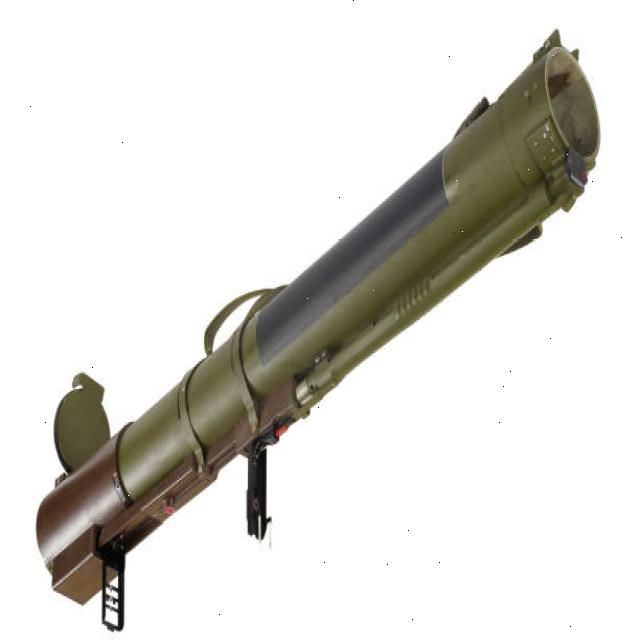bazooka: (29, 26, 607, 640)
